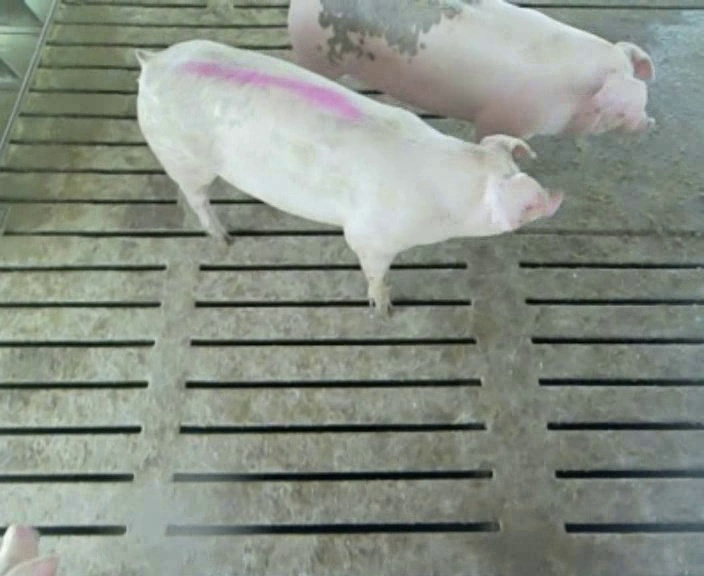pig: (137, 41, 560, 315), (290, 2, 653, 138)
